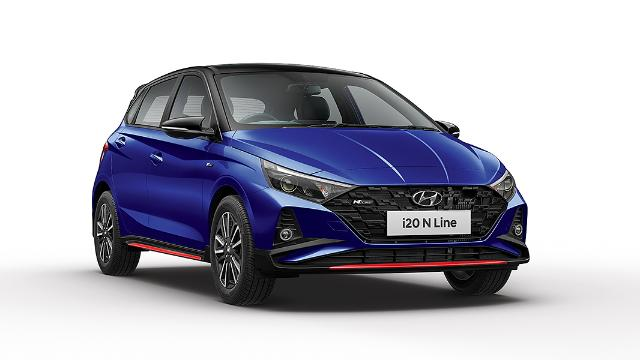hyundai: (92, 62, 530, 306)
